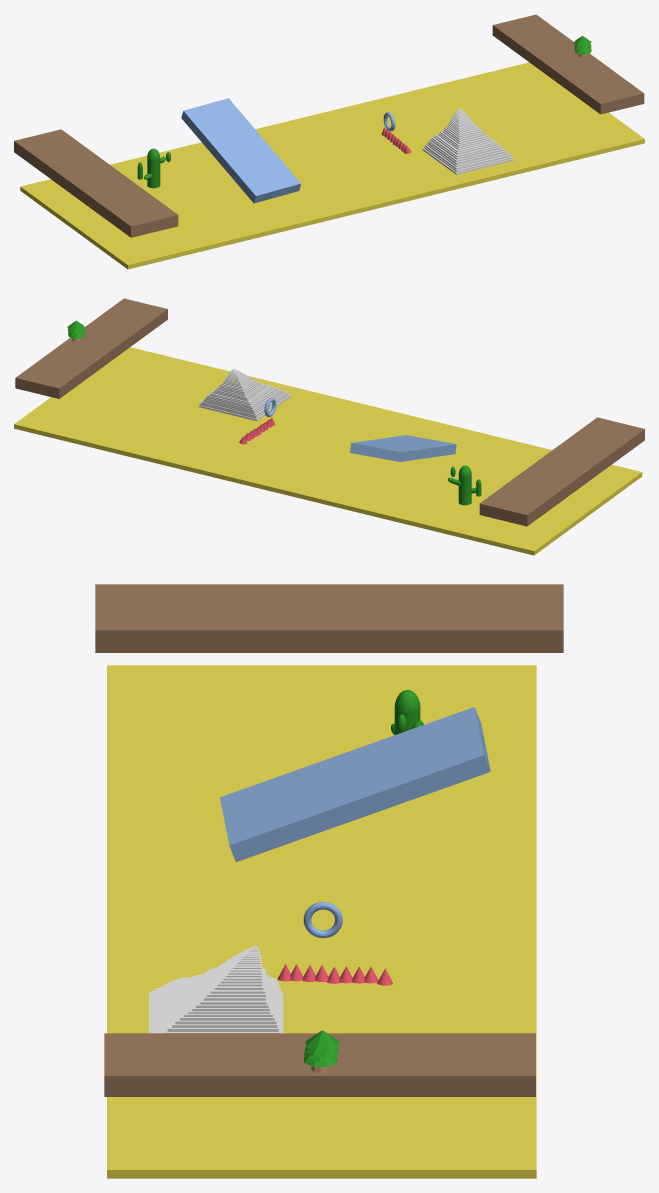
3 renders of one model, top to bottom at view 1: azimuth 30°, elevation 25°; view 2: azimuth 150°, elevation 25°; view 3: azimuth 270°, elevation 25°, orthographic. The views are drawn at different scales.
Parts seen in each view (by area): view 1: Cube, Cube.001, Cube.002, Cube.003; view 2: Cube, Cube.001, Cube.002, Cube.003; view 3: Cube, Cube.001, Cube.002, Cube.003, Cube.011.
Boxes of the visible parts, x1=… form: Cube: x1=20, y1=62, x2=644, y2=269; Cube.001: x1=14, y1=129, x2=178, y2=237; Cube.002: x1=492, y1=14, x2=644, y2=114; Cube.003: x1=181, y1=98, x2=301, y2=203; Cube: x1=14, y1=347, x2=642, y2=555; Cube.001: x1=479, y1=417, x2=644, y2=526; Cube.002: x1=15, y1=298, x2=167, y2=398; Cube.003: x1=350, y1=435, x2=456, y2=461; Cube: x1=107, y1=665, x2=536, y2=1178; Cube.001: x1=95, y1=584, x2=563, y2=652; Cube.002: x1=104, y1=1033, x2=535, y2=1096; Cube.003: x1=220, y1=707, x2=490, y2=862; Cube.011: x1=175, y1=979, x2=276, y2=1024.
Bounding box in the file's own units: 12522 × 1621 × 4911.
